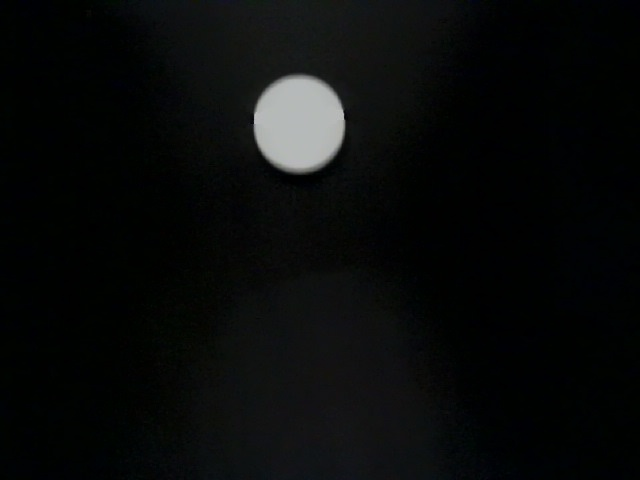YHLJ: (383, 258, 390, 266)
